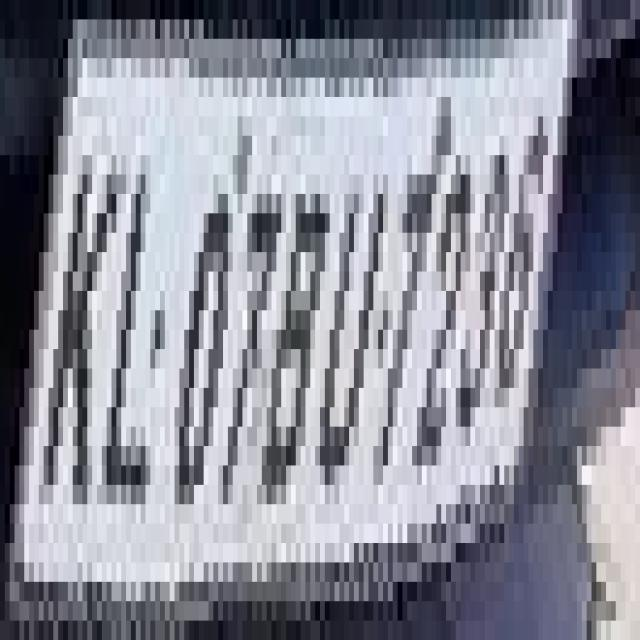license_plate: (0, 58, 606, 621)
